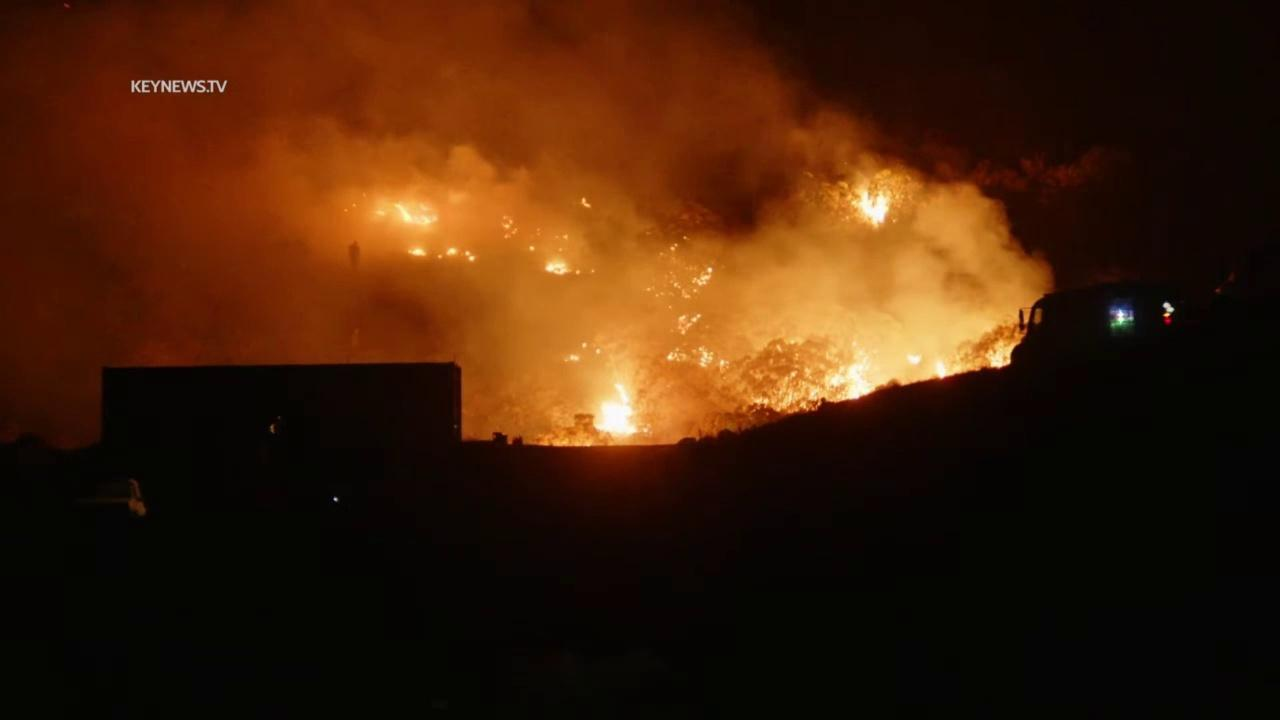fire: (753, 348, 879, 413), (595, 382, 651, 437), (665, 344, 732, 372), (857, 192, 891, 231), (393, 203, 440, 225), (691, 262, 715, 300), (674, 314, 702, 336), (543, 257, 572, 277), (989, 354, 1011, 369), (906, 352, 923, 367), (934, 362, 948, 380), (406, 246, 428, 257), (562, 352, 582, 363), (579, 195, 593, 209), (502, 215, 513, 230), (464, 251, 477, 262), (444, 246, 458, 256), (561, 232, 570, 241), (373, 210, 386, 216), (579, 341, 587, 349), (594, 347, 602, 355), (502, 232, 511, 239), (528, 246, 535, 253), (512, 228, 518, 235)
smoke: (0, 0, 1058, 451)
